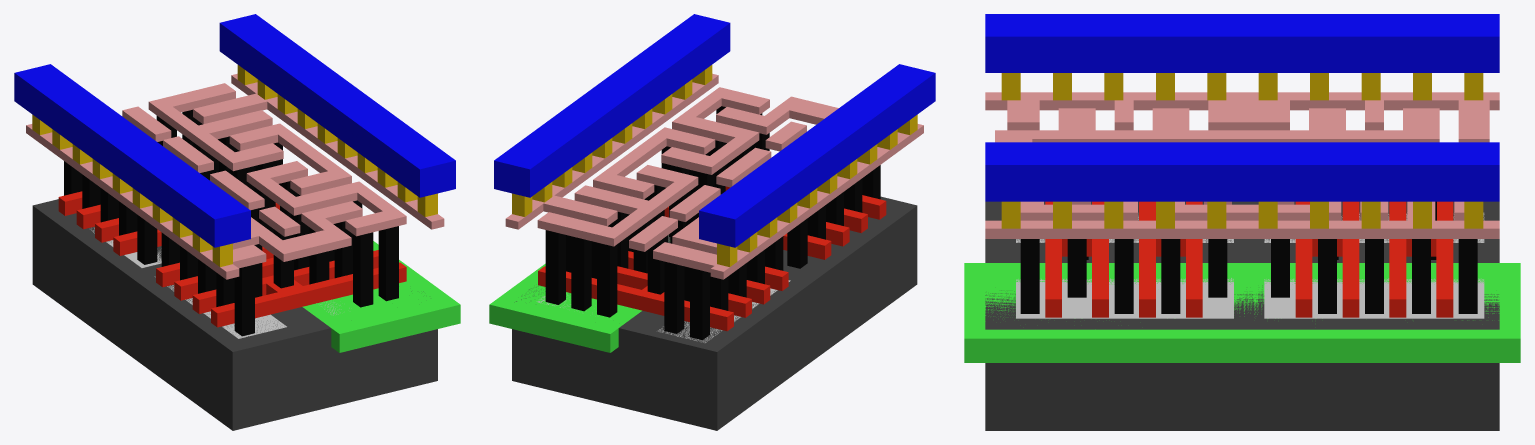
Rendered from sky130_fd_sc_hd__nor4_2.obj.
3 renders of one model, left to right at view 1: azimuth 30°, elevation 25°; view 2: azimuth 150°, elevation 25°; view 3: azimuth 270°, elevation 25°, orthographic. The views are drawn at different scales.
Parts seen in each view (by area): view 1: subs, metal1, li, licon, poly, nwell, mcon, diff; view 2: subs, metal1, li, licon, poly, nwell, mcon; view 3: metal1, subs, li, nwell, licon, poly, mcon, tap.
Boxes of the visible parts, x1,y1,x2,y2 form: subs: (32, 199, 437, 430); metal1: (14, 14, 455, 247); li: (26, 73, 444, 279); licon: (64, 109, 398, 336); poly: (58, 191, 406, 327); nwell: (302, 241, 460, 352); mcon: (32, 65, 437, 266); diff: (90, 227, 286, 338); subs: (512, 196, 917, 430); metal1: (494, 14, 935, 247); li: (505, 73, 923, 279); licon: (545, 106, 880, 339); poly: (538, 186, 886, 331); nwell: (489, 240, 669, 352); mcon: (512, 65, 917, 266); metal1: (985, 14, 1499, 201); subs: (985, 201, 1499, 430); li: (985, 92, 1499, 238); nwell: (964, 263, 1520, 362); licon: (1020, 201, 1477, 313); poly: (1045, 201, 1453, 317); mcon: (1001, 73, 1483, 228); tap: (1016, 278, 1484, 318).
Size of the model in its own units: 3.2 by 2.74 by 4.98.
